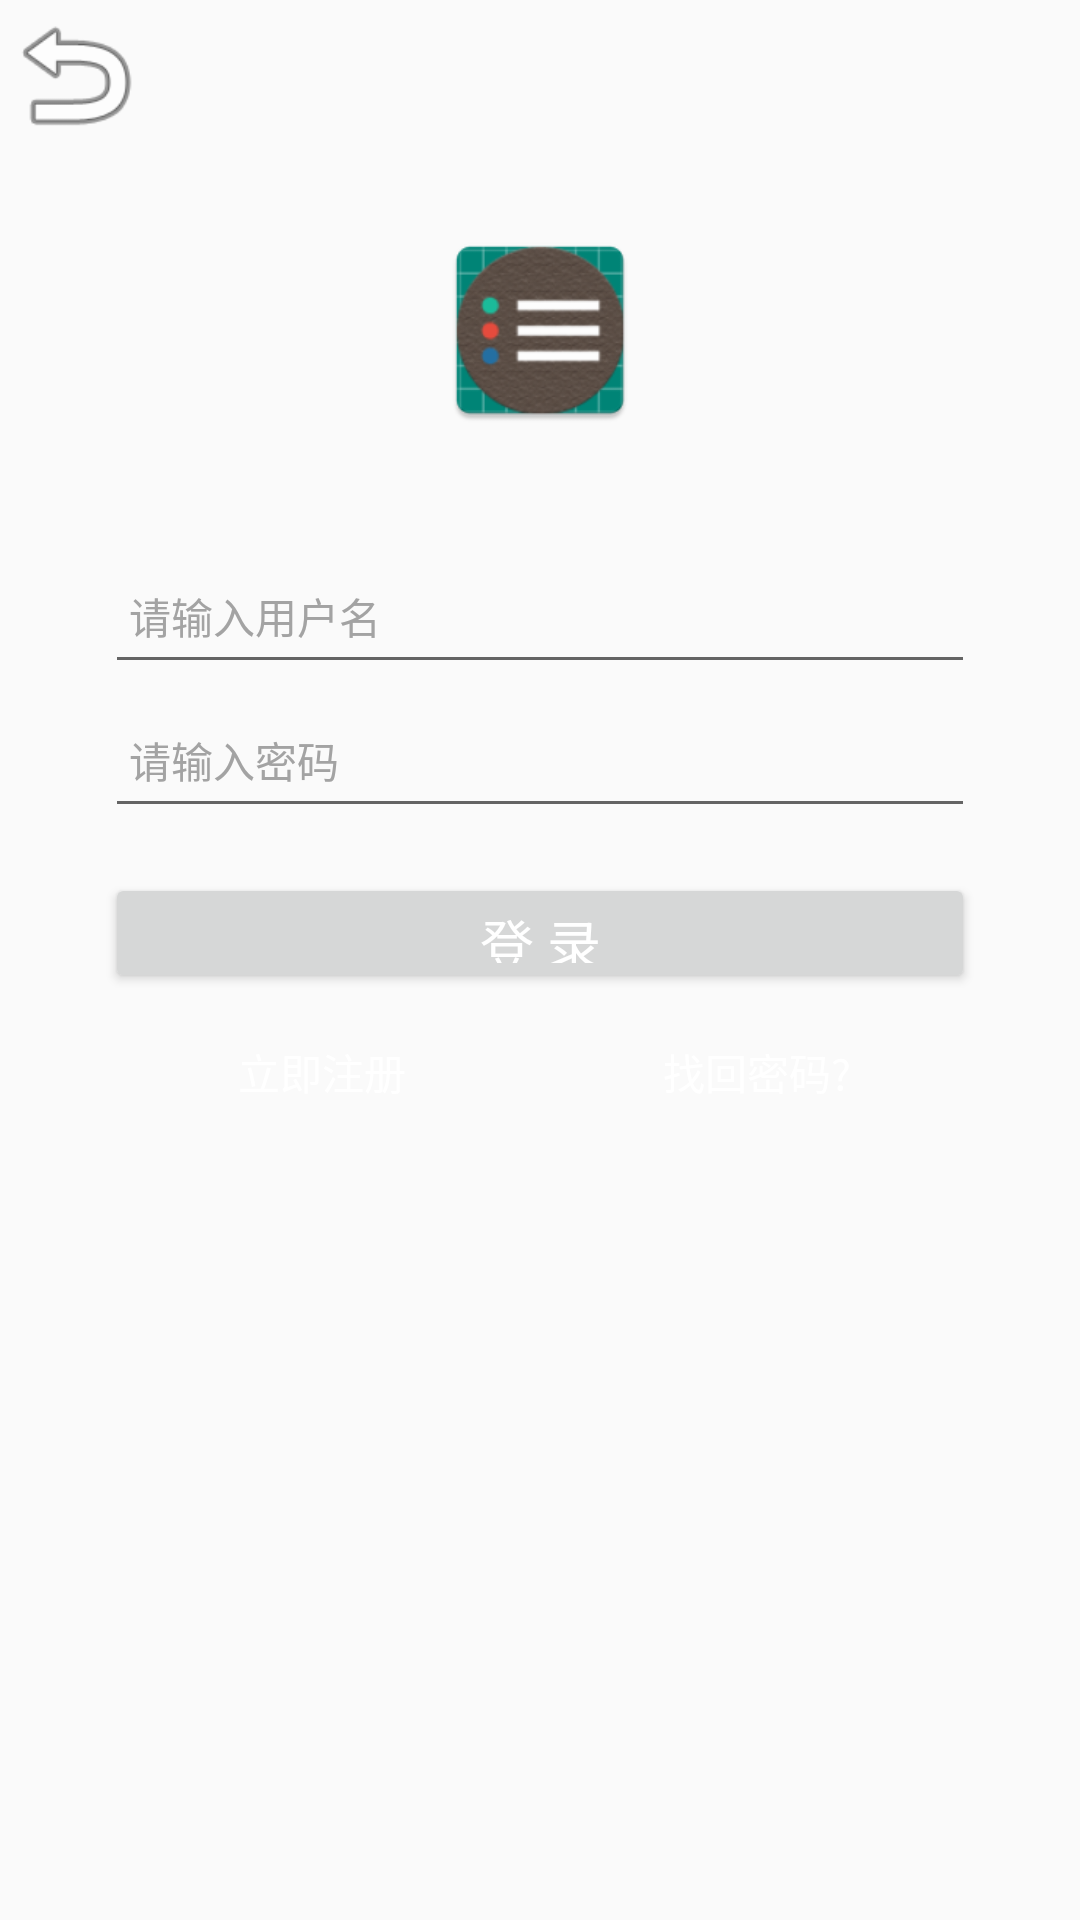

Locate icon controls on the screen. Image size 1080px x 1920px, boxes as (x1, y1, x2, y2).
revert: (23, 27, 131, 125)
